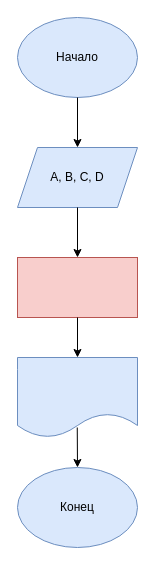
The diagram is 155 pixels wide and 565 high, and some of its shapes have lost their labels. The box of each missing label's shape, as (x1, y1, x2, y2) in pixels:
avg: (16, 356, 138, 438)
avg = (A + B + C + D) / 4: (16, 256, 138, 318)
